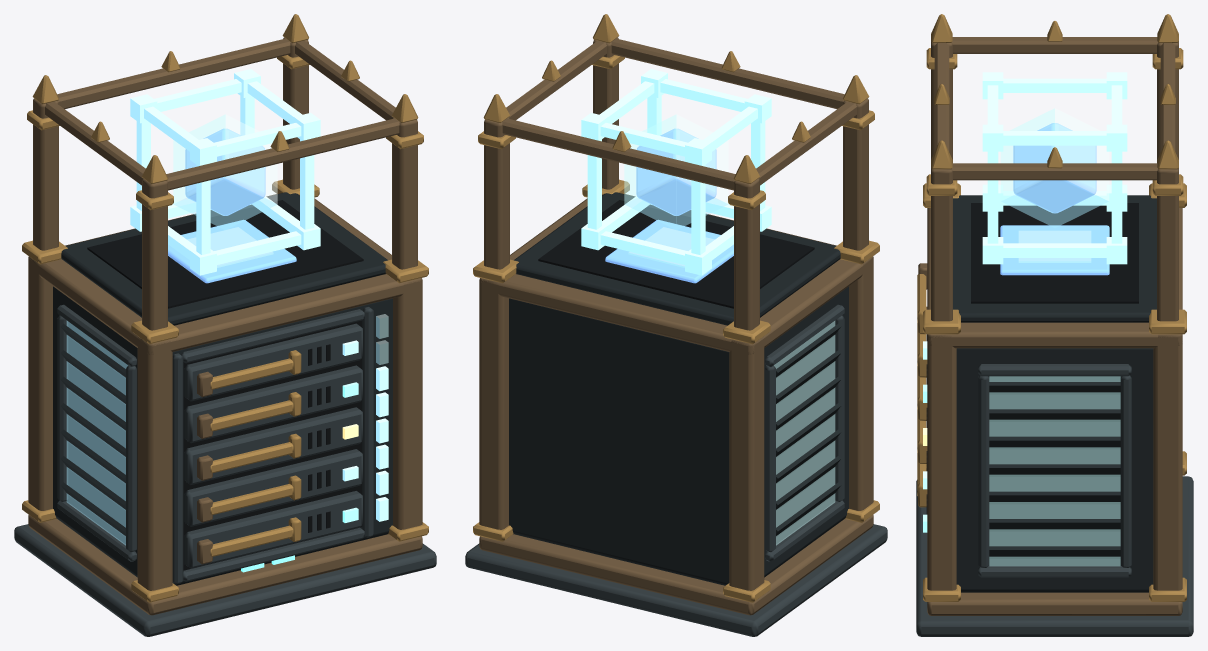
File: cache.glb
3 views of the same model, side by side, from view 1: azimuth 30°, elevation 25°; view 2: azimuth 150°, elevation 25°; view 3: azimuth 270°, elevation 25° (orthographic). The views are drawn at different scales.
Parts seen in each view (by area): view 1: body_metal_brass, body_metal_graphite, body_metal_dark, body_metal_brass_bright, data_cube, body_rubber, body_role_glow_soft, heart_aura, body_role_luminous, heart, body_role_glow; view 2: body_metal_dark, body_metal_brass, body_metal_graphite, data_cube, body_role_glow_soft, body_metal_brass_bright, body_rubber, heart_aura, body_role_luminous, heart; view 3: body_metal_dark, body_metal_brass, body_role_glow_soft, body_metal_graphite, data_cube, body_rubber, body_metal_brass_bright, heart_aura, body_role_luminous, heart.
Boxes of the visible parts, x1,y1,x2,y2 form: body_metal_brass: [28, 37, 422, 615]; body_metal_graphite: [14, 304, 436, 636]; body_metal_dark: [53, 192, 392, 585]; body_metal_brass_bright: [22, 14, 428, 602]; data_cube: [130, 69, 320, 275]; body_rubber: [87, 200, 363, 570]; body_role_glow_soft: [66, 227, 388, 545]; heart_aura: [173, 114, 277, 229]; body_role_luminous: [168, 220, 296, 283]; heart: [185, 128, 265, 215]; body_role_glow: [376, 366, 388, 521]; body_metal_dark: [509, 192, 848, 585]; body_metal_brass: [479, 37, 873, 615]; body_metal_graphite: [465, 304, 887, 636]; data_cube: [581, 69, 771, 275]; body_role_glow_soft: [628, 227, 835, 545]; body_metal_brass_bright: [473, 14, 879, 602]; body_rubber: [538, 200, 814, 308]; heart_aura: [624, 114, 728, 230]; body_role_luminous: [605, 220, 733, 283]; heart: [636, 128, 716, 215]; body_metal_dark: [953, 195, 1156, 592]; body_metal_brass: [918, 37, 1182, 615]; body_role_glow_soft: [989, 230, 1120, 566]; body_metal_graphite: [916, 364, 1193, 636]; data_cube: [982, 72, 1127, 264]; body_rubber: [926, 203, 1138, 514]; body_metal_brass_bright: [917, 14, 1186, 601]; heart_aura: [1000, 108, 1109, 227]; body_role_luminous: [1000, 225, 1109, 275]; heart: [1013, 123, 1096, 213].
Size of the model in its own units: 0.96 by 1.48 by 0.76.
